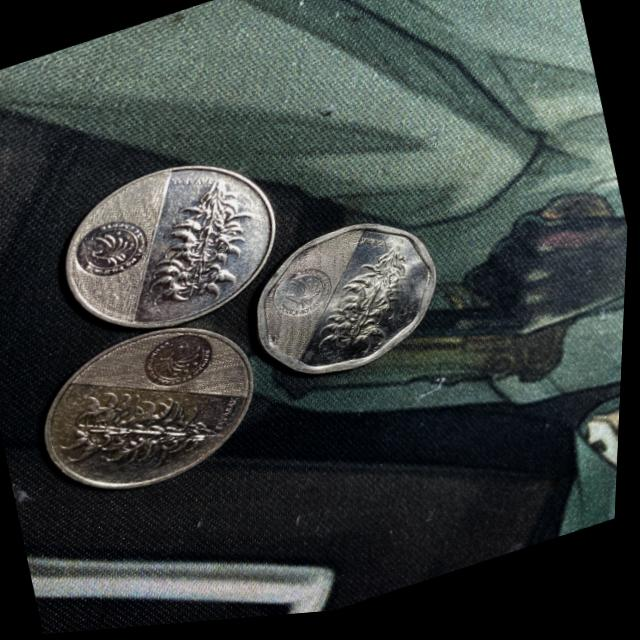5_New_Back: (55, 367, 233, 492), (127, 170, 262, 321), (291, 247, 433, 390)
